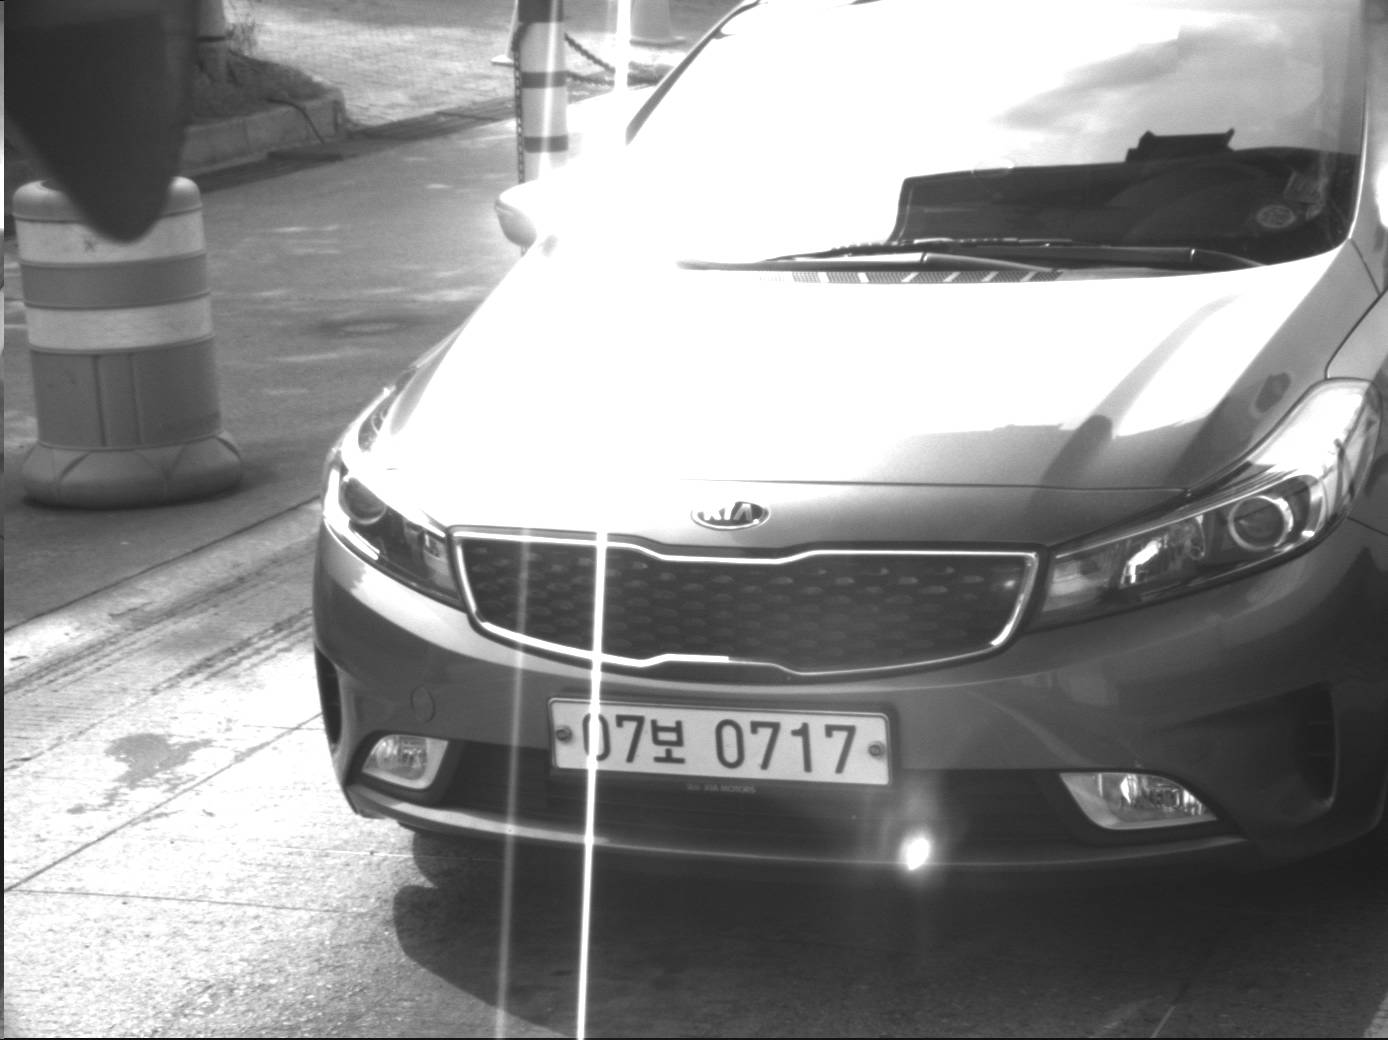car: (307, 1, 1386, 897)
plate: (542, 694, 899, 795)
